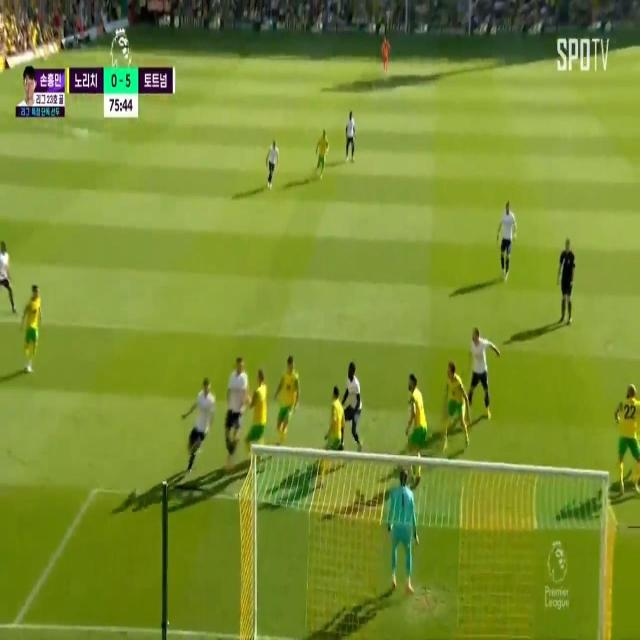player: (439, 360, 469, 455), (616, 378, 640, 483), (228, 349, 250, 447), (468, 327, 489, 421), (276, 354, 298, 441), (343, 362, 367, 436), (193, 370, 211, 468), (252, 367, 270, 451), (409, 373, 429, 447), (498, 198, 514, 284), (0, 243, 19, 314), (328, 381, 344, 465), (26, 284, 39, 368), (265, 136, 279, 194), (343, 109, 357, 158), (316, 130, 330, 176)
referee: (558, 234, 572, 324)
